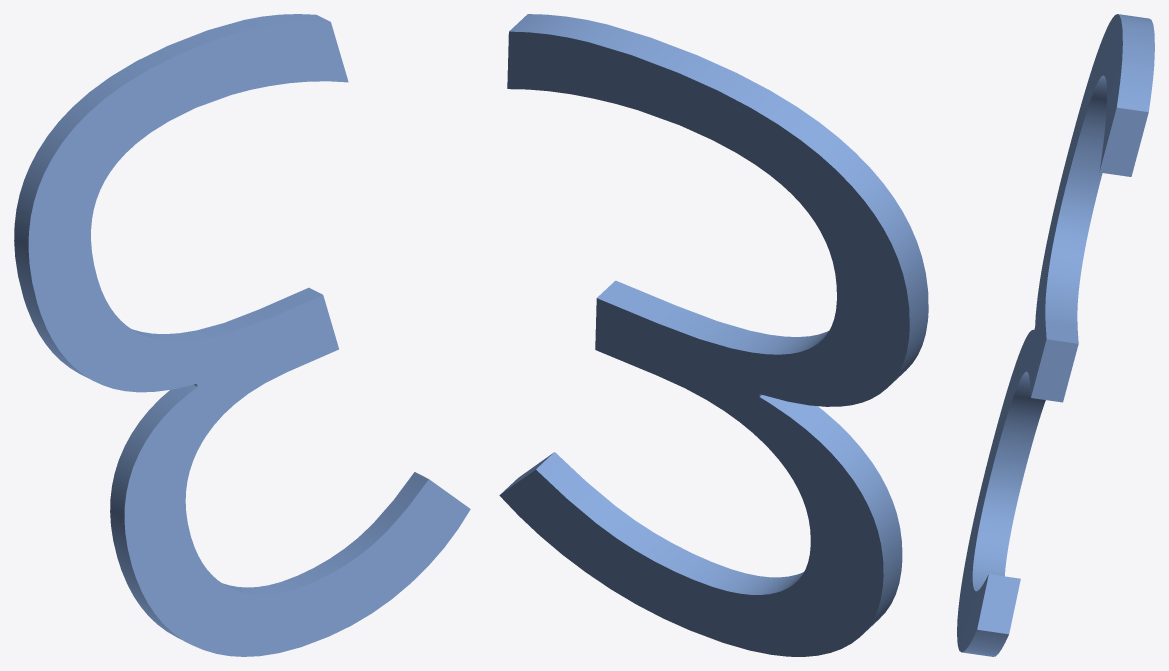
Rendered from New_Number_3.gltf.
The picture shows the model from 3 angles, left to right: view 1: azimuth 30°, elevation 25°; view 2: azimuth 150°, elevation 25°; view 3: azimuth 270°, elevation 25°; orthographic projection. The views are drawn at different scales.
Parts seen in each view (by area): view 1: Part 147; view 2: Part 147; view 3: Part 147.
Part boxes in pixels (x1=…): Part 147: x1=14, y1=14, x2=470, y2=656; Part 147: x1=499, y1=14, x2=928, y2=656; Part 147: x1=957, y1=14, x2=1154, y2=656.
Size of the model in its own units: 0.00379 by 0.00515 by 0.00156.
